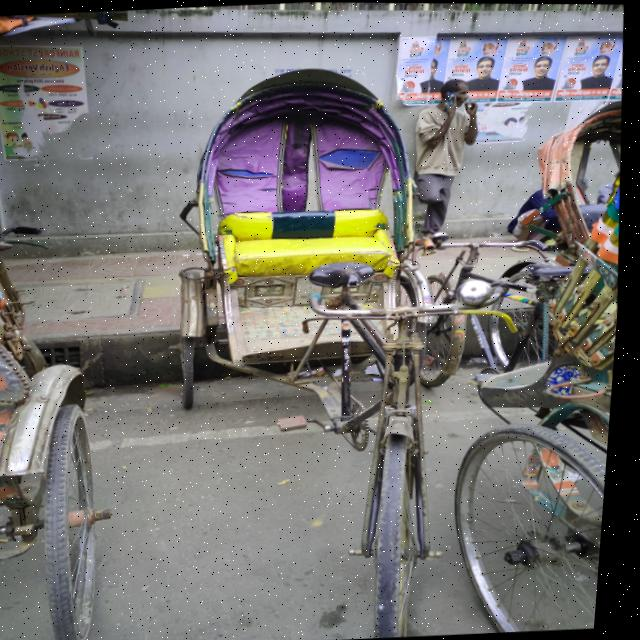rikshaw: (159, 49, 534, 640)
